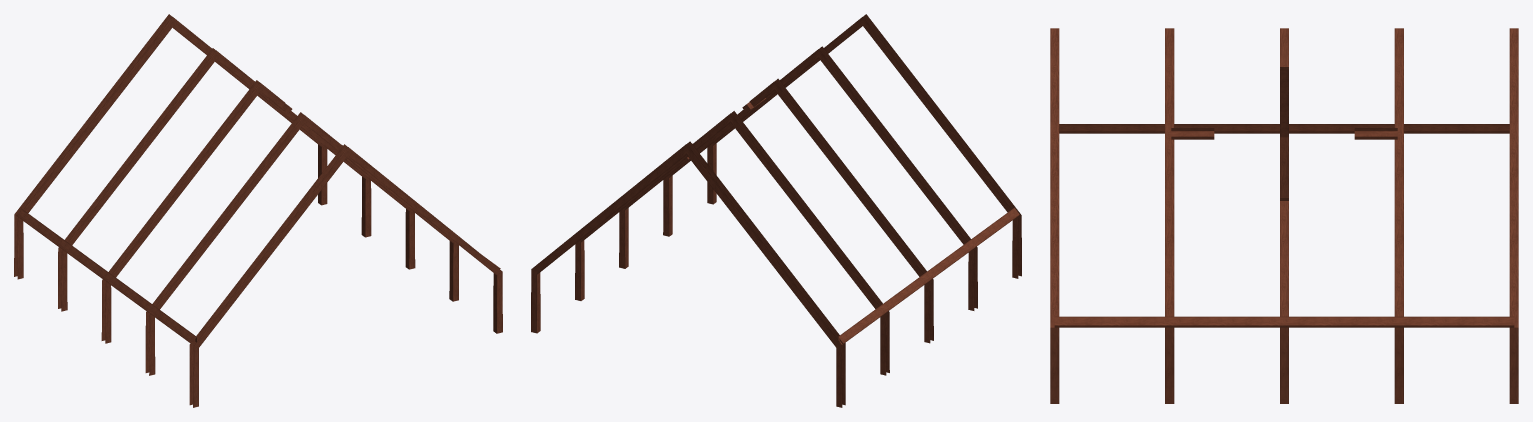
The model's file is World_Beam.fbx.
The picture shows the model from 3 angles, left to right: view 1: azimuth 30°, elevation 25°; view 2: azimuth 150°, elevation 25°; view 3: azimuth 270°, elevation 25°; orthographic projection. The views are drawn at different scales.
Visible parts, largest first — view 1: World_Beam; view 2: World_Beam; view 3: World_Beam.
Boxes of the visible parts, <box> form: World_Beam: <box>14,14,502,407</box>; World_Beam: <box>531,14,1021,407</box>; World_Beam: <box>1050,28,1518,403</box>.
Bounding box in the file's own units: 8.16 × 5.67 × 8.16.
